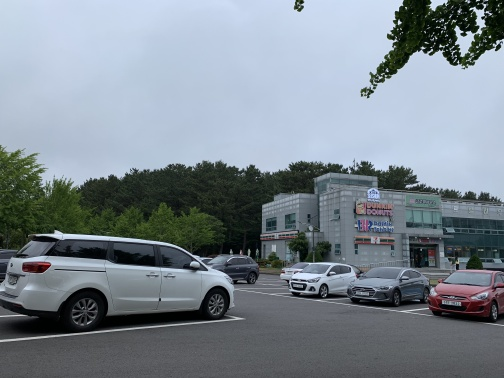Global House: (257, 170, 503, 276)
